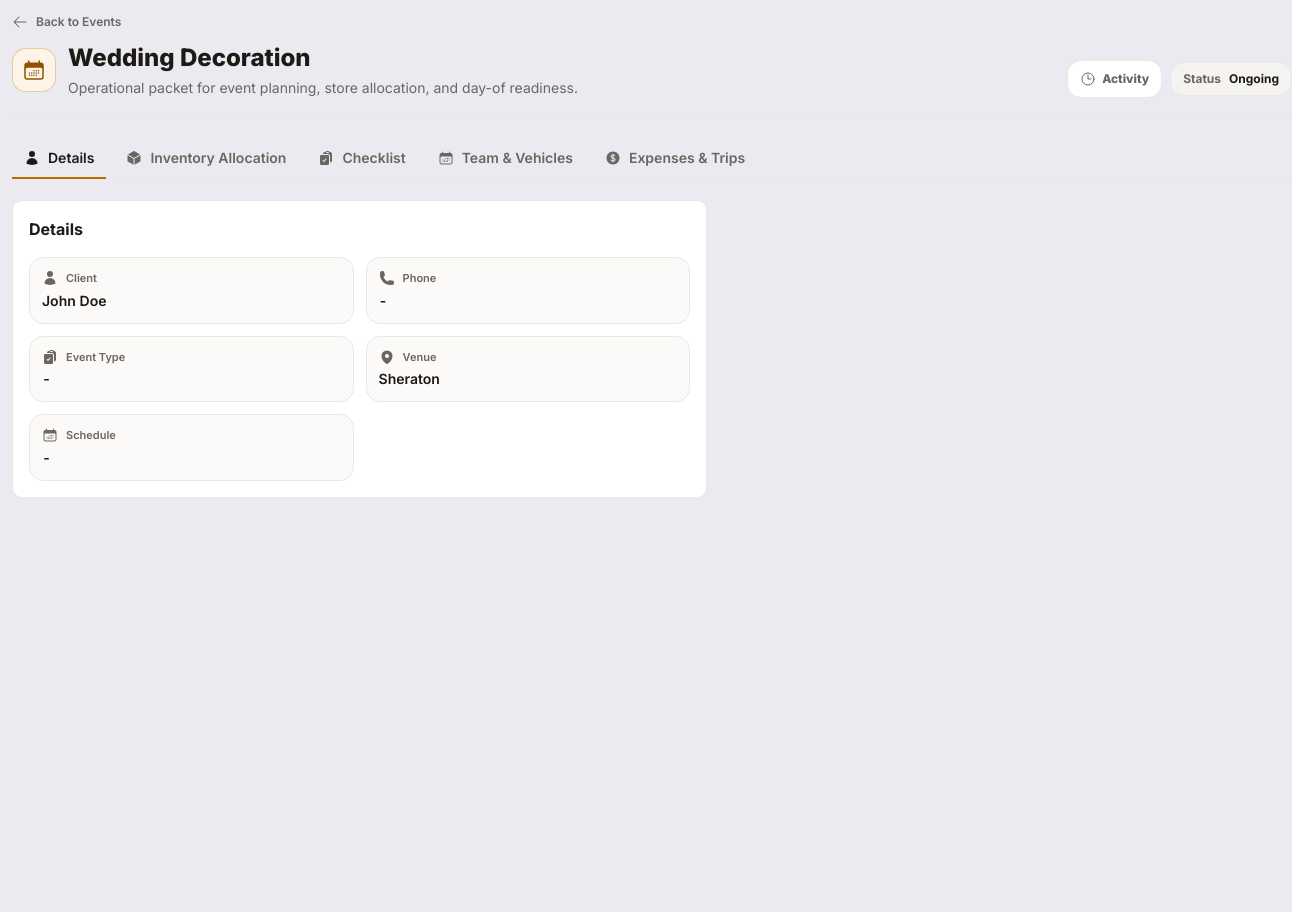
it: EventWorkspacePage Role-Aware Controls › enables departure for checked allocations and disables departed rows
Click the button "Inventory Allocation": coordinates (206, 159) [114,139,298,179]
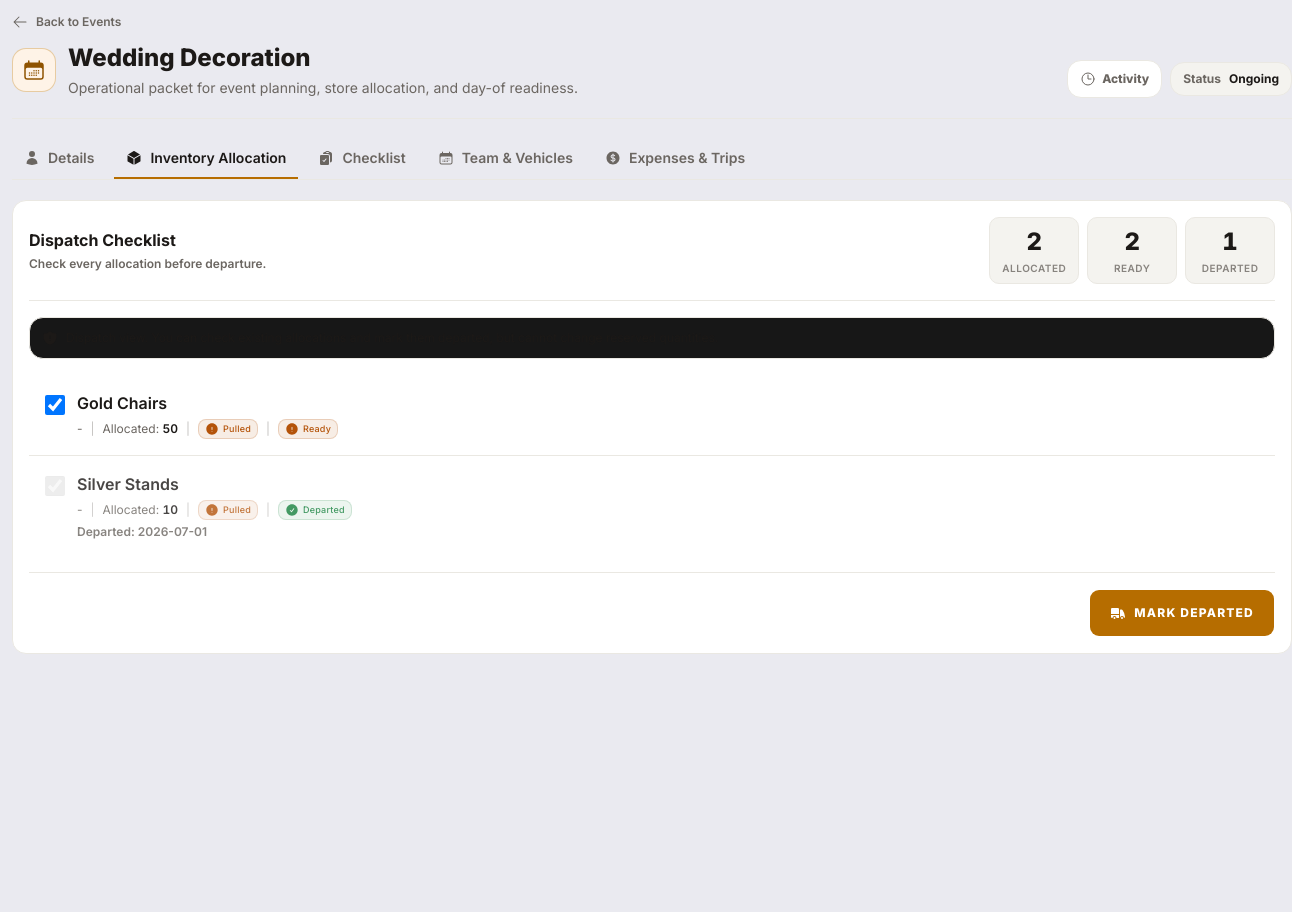
Check: the button "Mark Departed" is enabled, box [1089,588,1275,636]
